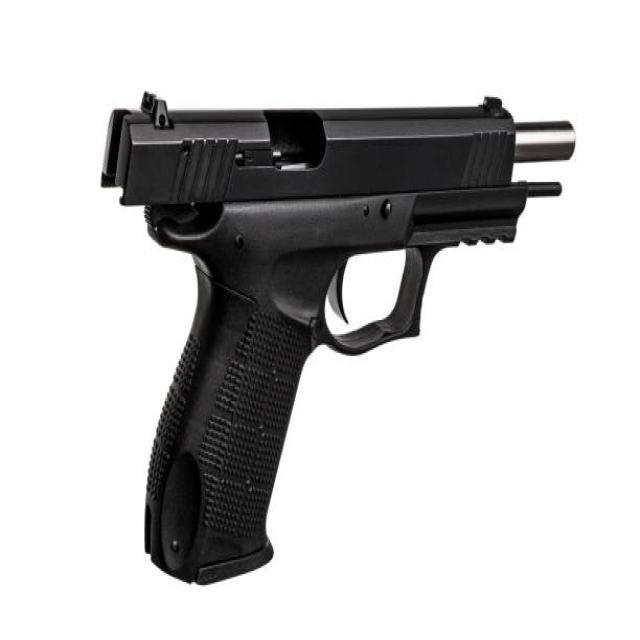pistol: (96, 84, 580, 594)
